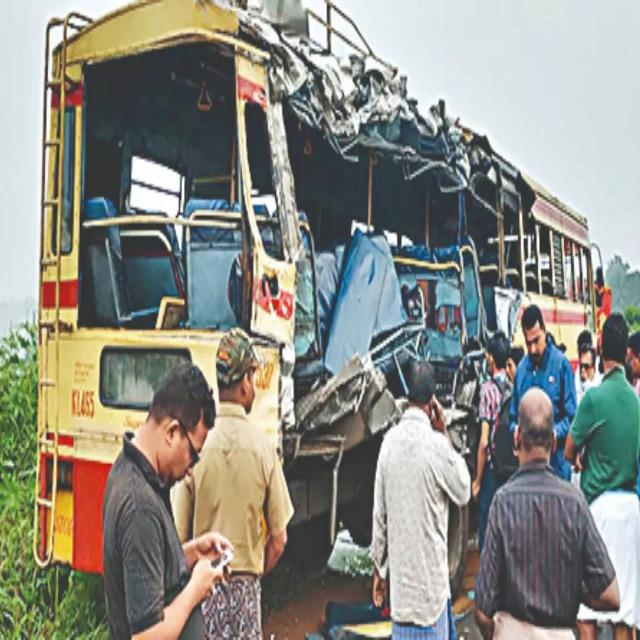accident: (35, 0, 601, 572)
